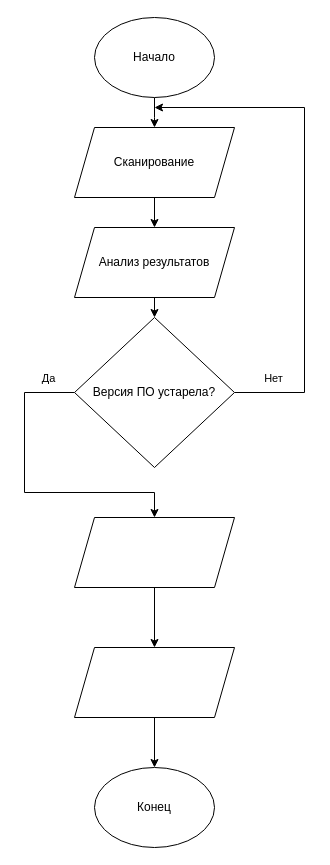
The diagram is 330 pixels wide and 865 high, and some of its shapes have lost their labels. Here are the shapes that lost their labels. From the top down, the box of each, then its label:
(74, 516, 234, 588): Генерация отчета
(74, 646, 234, 718): Уведомление администратора
